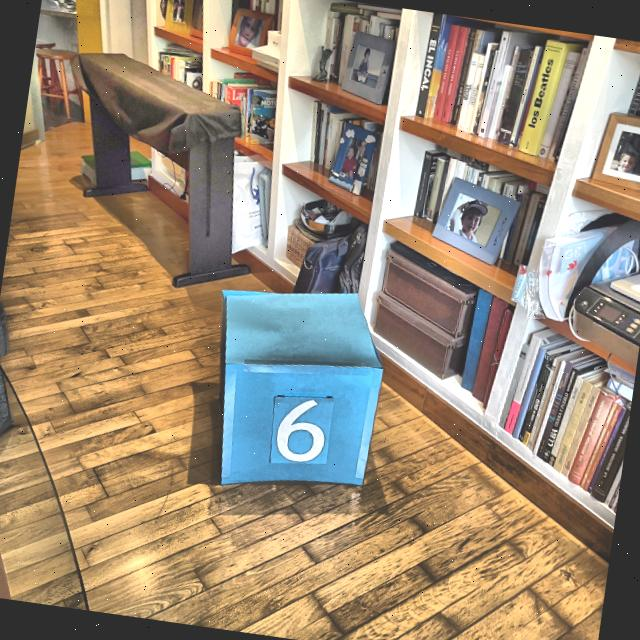blue box: (196, 273, 394, 508)
six: (273, 395, 331, 466)
